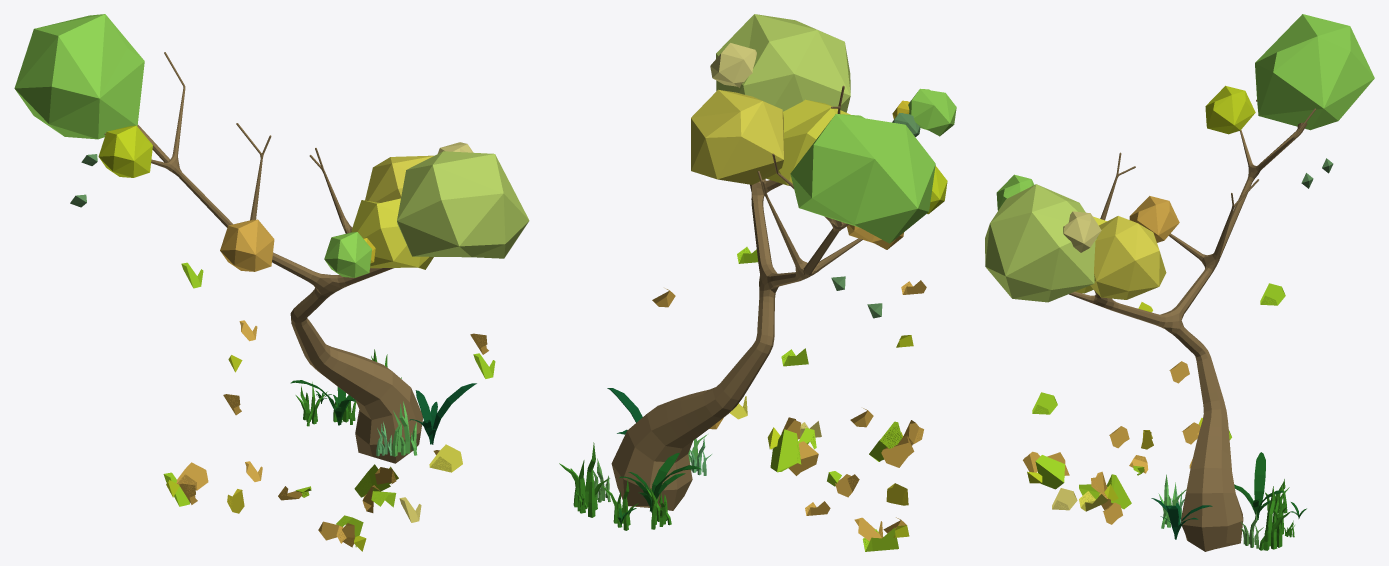
The model's file is tree-3.fbx.
3 views of the same model, side by side, from view 1: azimuth 30°, elevation 25°; view 2: azimuth 150°, elevation 25°; view 3: azimuth 270°, elevation 25° (orthographic). The views are drawn at different scales.
Visible parts, largest first — view 1: Icosphere, Icosphere.007, Cube, Icosphere.005, Icosphere.003, Icosphere.001, Icosphere.009, Icosphere.006, Icosphere.004, Cube.003, Icosphere.020; view 2: Cube, Icosphere, Icosphere.007, Icosphere.006, Icosphere.005, Icosphere.009, Icosphere.008, Cube.001, Icosphere.002, Icosphere.036, Icosphere.038, Icosphere.040 (+6 smaller); view 3: Cube, Icosphere, Icosphere.007, Icosphere.006, Icosphere.003, Icosphere.001, Icosphere.008, Icosphere.002, Cube.001, Icosphere.040, Icosphere.009, Icosphere.004.
Part boxes in pixels (x1,y1,x2,y2): Icosphere: (14, 14, 144, 139); Icosphere.007: (397, 151, 529, 258); Cube: (104, 52, 422, 463); Icosphere.005: (351, 198, 433, 269); Icosphere.003: (98, 125, 152, 177); Icosphere.001: (220, 219, 274, 271); Icosphere.009: (324, 232, 371, 277); Icosphere.006: (365, 155, 433, 202); Icosphere.004: (409, 383, 476, 444); Cube.003: (392, 401, 417, 456); Icosphere.020: (429, 444, 462, 472); Cube: (611, 85, 862, 510); Icosphere: (790, 114, 935, 243); Icosphere.007: (716, 14, 850, 112); Icosphere.006: (691, 89, 784, 184); Icosphere.005: (766, 99, 850, 185); Icosphere.009: (908, 88, 956, 136); Icosphere.008: (710, 43, 756, 87); Cube.001: (559, 442, 609, 517); Icosphere.002: (619, 453, 701, 512); Icosphere.036: (770, 429, 801, 472); Icosphere.038: (881, 435, 914, 467); Icosphere.040: (869, 421, 902, 461); Cube: (1069, 99, 1315, 551); Icosphere: (1255, 14, 1374, 130); Icosphere.007: (985, 184, 1097, 302); Icosphere.006: (1090, 216, 1166, 299); Icosphere.003: (1205, 85, 1255, 134); Icosphere.001: (1129, 196, 1179, 242); Icosphere.008: (1063, 211, 1101, 252); Icosphere.002: (1234, 452, 1284, 520); Cube.001: (1259, 486, 1290, 550); Icosphere.040: (1035, 455, 1064, 489); Icosphere.009: (996, 174, 1034, 210); Icosphere.004: (1151, 498, 1212, 539).
Bounding box in the file's own units: 3536 × 4124 × 3528.
